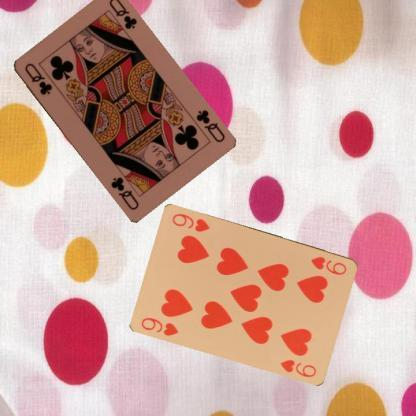9h: (139, 314, 180, 338), (308, 254, 349, 276)
Qc: (193, 107, 226, 144), (22, 60, 53, 96)
